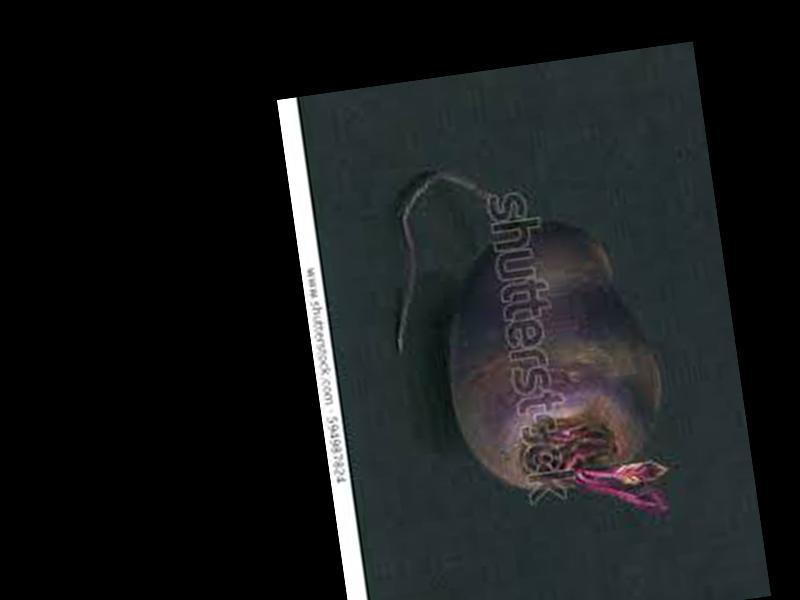Beet: (375, 146, 681, 552)
